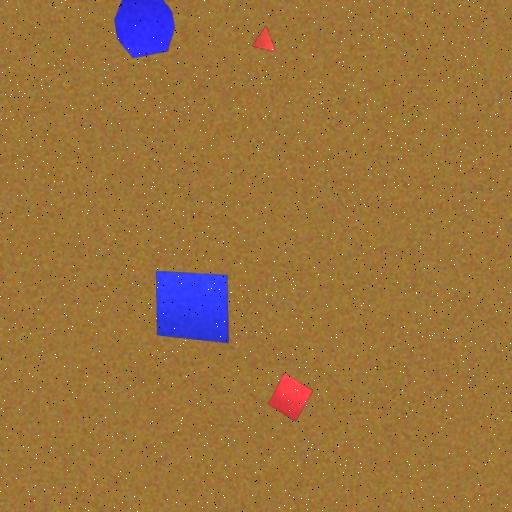BLUE_SQUARE: (155, 270, 230, 344)
RED_SQUARE: (267, 372, 314, 422)
